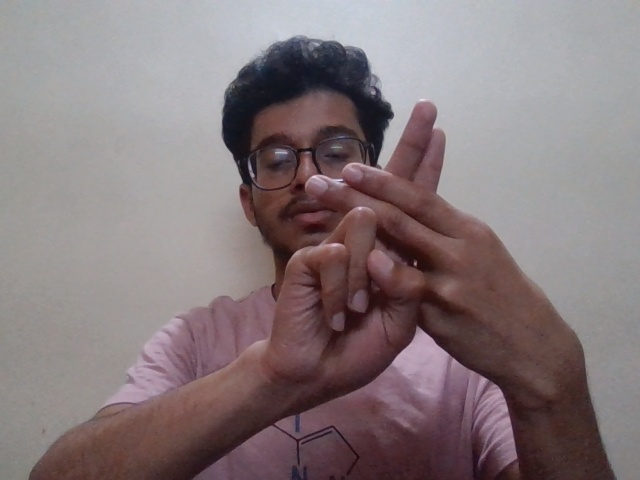disabled: (251, 89, 594, 429)
